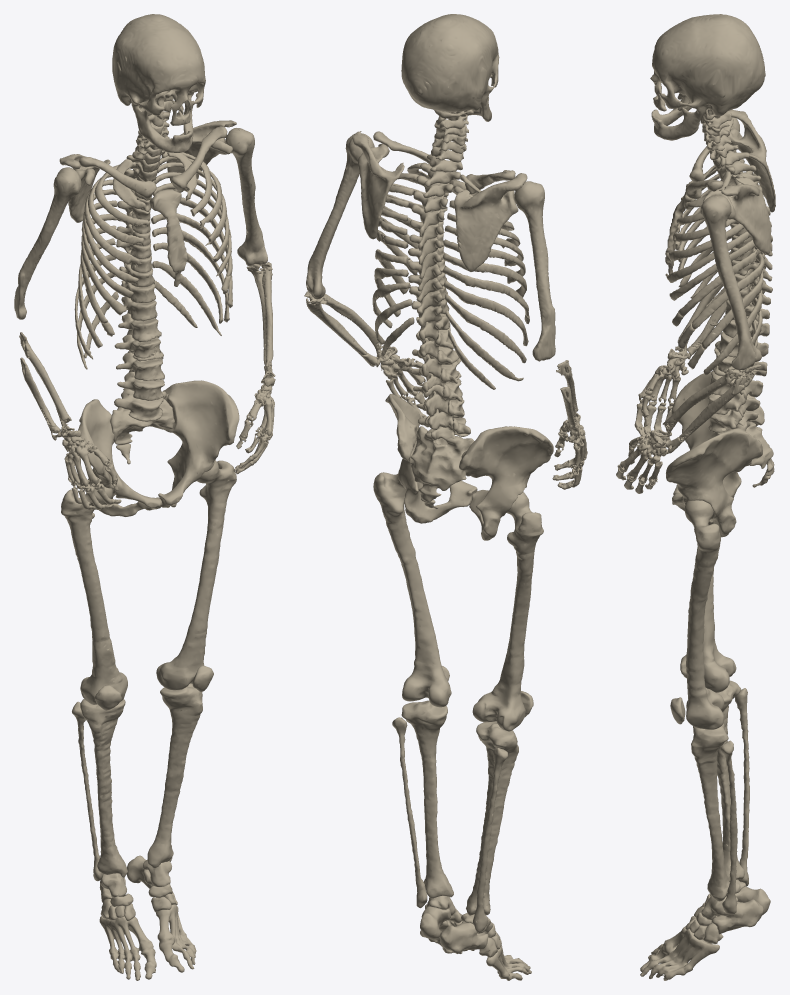
The model's file is vhf_denver_ct_adult_female.skeletal.LOD2.glb.
3 renders of one model, left to right at view 1: azimuth 30°, elevation 25°; view 2: azimuth 150°, elevation 25°; view 3: azimuth 270°, elevation 25°, orthographic. The views are drawn at different scales.
Parts seen in each view (by area): view 1: VHF_DENVER_CT.ADULT.FEMALE.SKELETAL.SKULL_CRANIUM_AND_MANDIB, VHF_DENVER_CT.ADULT.FEMALE.SKELETAL.HIP_BONE_OS_COXAE.L, VHF_DENVER_CT.ADULT.FEMALE.SKELETAL.FEMUR.L, VHF_DENVER_CT.ADULT.FEMALE.SKELETAL.FEMUR.R, VHF_DENVER_CT.ADULT.FEMALE.SKELETAL.TIBIA.L, VHF_DENVER_CT.ADULT.FEMALE.SKELETAL.METATARSALS_AND_PHALANGE (×2), VHF_DENVER_CT.ADULT.FEMALE.SKELETAL.TIBIA.R, VHF_DENVER_CT.ADULT.FEMALE.SKELETAL.HIP_BONE_OS_COXAE.R, VHF_DENVER_CT.ADULT.FEMALE.SKELETAL.HAND_BONES.R, VHF_DENVER_CT.ADULT.FEMALE.SKELETAL.HUMERUS.L, VHF_DENVER_CT.ADULT.FEMALE.SKELETAL.HUMERUS.R, VHF_DENVER_CT.ADULT.FEMALE.SKELETAL.HAND_BONES.L (+25 smaller); view 2: VHF_DENVER_CT.ADULT.FEMALE.SKELETAL.SKULL_CRANIUM_AND_MANDIB, VHF_DENVER_CT.ADULT.FEMALE.SKELETAL.HIP_BONE_OS_COXAE.R, VHF_DENVER_CT.ADULT.FEMALE.SKELETAL.FEMUR.L, VHF_DENVER_CT.ADULT.FEMALE.SKELETAL.FEMUR.R, VHF_DENVER_CT.ADULT.FEMALE.SKELETAL.SCAPULA.R, VHF_DENVER_CT.ADULT.FEMALE.SKELETAL.TIBIA.L, VHF_DENVER_CT.ADULT.FEMALE.SKELETAL.HIP_BONE_OS_COXAE.L, VHF_DENVER_CT.ADULT.FEMALE.SKELETAL.TIBIA.R, VHF_DENVER_CT.ADULT.FEMALE.SKELETAL.HUMERUS.R, VHF_DENVER_CT.ADULT.FEMALE.SKELETAL.SACRUM, VHF_DENVER_CT.ADULT.FEMALE.SKELETAL.SCAPULA.L, VHF_DENVER_CT.ADULT.FEMALE.SKELETAL.HUMERUS.L (+18 smaller); view 3: VHF_DENVER_CT.ADULT.FEMALE.SKELETAL.SKULL_CRANIUM_AND_MANDIB, VHF_DENVER_CT.ADULT.FEMALE.SKELETAL.FEMUR.L, VHF_DENVER_CT.ADULT.FEMALE.SKELETAL.HIP_BONE_OS_COXAE.L, VHF_DENVER_CT.ADULT.FEMALE.SKELETAL.HUMERUS.L, VHF_DENVER_CT.ADULT.FEMALE.SKELETAL.TIBIA.L, VHF_DENVER_CT.ADULT.FEMALE.SKELETAL.HAND_BONES.R, VHF_DENVER_CT.ADULT.FEMALE.SKELETAL.SCAPULA.L, VHF_DENVER_CT.ADULT.FEMALE.SKELETAL.METATARSALS_AND_PHALANGE, VHF_DENVER_CT.ADULT.FEMALE.SKELETAL.HAND_BONES.L, VHF_DENVER_CT.ADULT.FEMALE.SKELETAL.HIP_BONE_OS_COXAE.R, VHF_DENVER_CT.ADULT.FEMALE.SKELETAL.FEMUR.R, VHF_DENVER_CT.ADULT.FEMALE.SKELETAL.SCAPULA.R (+25 smaller).
Boxes of the visible parts, x1,y1,x2,y2 form: VHF_DENVER_CT.ADULT.FEMALE.SKELETAL.SKULL_CRANIUM_AND_MANDIB: (112, 14, 205, 152); VHF_DENVER_CT.ADULT.FEMALE.SKELETAL.HIP_BONE_OS_COXAE.L: (158, 380, 239, 507); VHF_DENVER_CT.ADULT.FEMALE.SKELETAL.FEMUR.L: (156, 460, 236, 690); VHF_DENVER_CT.ADULT.FEMALE.SKELETAL.FEMUR.R: (61, 484, 127, 704); VHF_DENVER_CT.ADULT.FEMALE.SKELETAL.TIBIA.L: (147, 683, 202, 868); VHF_DENVER_CT.ADULT.FEMALE.SKELETAL.METATARSALS_AND_PHALANGE (×2): (99, 904, 196, 980); VHF_DENVER_CT.ADULT.FEMALE.SKELETAL.TIBIA.R: (80, 699, 127, 877); VHF_DENVER_CT.ADULT.FEMALE.SKELETAL.HIP_BONE_OS_COXAE.R: (78, 399, 162, 516); VHF_DENVER_CT.ADULT.FEMALE.SKELETAL.HAND_BONES.R: (48, 425, 121, 510); VHF_DENVER_CT.ADULT.FEMALE.SKELETAL.HUMERUS.L: (225, 128, 267, 266); VHF_DENVER_CT.ADULT.FEMALE.SKELETAL.HUMERUS.R: (14, 167, 81, 319); VHF_DENVER_CT.ADULT.FEMALE.SKELETAL.HAND_BONES.L: (233, 365, 275, 474); VHF_DENVER_CT.ADULT.FEMALE.SKELETAL.SKULL_CRANIUM_AND_MANDIB: (401, 14, 499, 121); VHF_DENVER_CT.ADULT.FEMALE.SKELETAL.HIP_BONE_OS_COXAE.R: (459, 426, 553, 540); VHF_DENVER_CT.ADULT.FEMALE.SKELETAL.FEMUR.L: (373, 472, 451, 707); VHF_DENVER_CT.ADULT.FEMALE.SKELETAL.FEMUR.R: (472, 492, 543, 731); VHF_DENVER_CT.ADULT.FEMALE.SKELETAL.SCAPULA.R: (454, 173, 527, 271); VHF_DENVER_CT.ADULT.FEMALE.SKELETAL.TIBIA.L: (401, 700, 453, 898); VHF_DENVER_CT.ADULT.FEMALE.SKELETAL.HIP_BONE_OS_COXAE.L: (385, 394, 477, 523); VHF_DENVER_CT.ADULT.FEMALE.SKELETAL.TIBIA.R: (466, 721, 518, 915); VHF_DENVER_CT.ADULT.FEMALE.SKELETAL.HUMERUS.R: (514, 181, 555, 361); VHF_DENVER_CT.ADULT.FEMALE.SKELETAL.SACRUM: (410, 426, 474, 502); VHF_DENVER_CT.ADULT.FEMALE.SKELETAL.SCAPULA.L: (352, 131, 404, 239); VHF_DENVER_CT.ADULT.FEMALE.SKELETAL.HUMERUS.L: (306, 133, 374, 299); VHF_DENVER_CT.ADULT.FEMALE.SKELETAL.SKULL_CRANIUM_AND_MANDIB: (650, 14, 765, 140); VHF_DENVER_CT.ADULT.FEMALE.SKELETAL.FEMUR.L: (684, 500, 724, 729); VHF_DENVER_CT.ADULT.FEMALE.SKELETAL.HIP_BONE_OS_COXAE.L: (666, 428, 762, 537); VHF_DENVER_CT.ADULT.FEMALE.SKELETAL.HUMERUS.L: (700, 195, 761, 370); VHF_DENVER_CT.ADULT.FEMALE.SKELETAL.TIBIA.L: (691, 723, 735, 901); VHF_DENVER_CT.ADULT.FEMALE.SKELETAL.HAND_BONES.R: (634, 344, 698, 436); VHF_DENVER_CT.ADULT.FEMALE.SKELETAL.SCAPULA.L: (702, 177, 771, 254); VHF_DENVER_CT.ADULT.FEMALE.SKELETAL.METATARSALS_AND_PHALANGE: (640, 926, 719, 980); VHF_DENVER_CT.ADULT.FEMALE.SKELETAL.HAND_BONES.L: (616, 430, 683, 493); VHF_DENVER_CT.ADULT.FEMALE.SKELETAL.HIP_BONE_OS_COXAE.R: (671, 371, 764, 497); VHF_DENVER_CT.ADULT.FEMALE.SKELETAL.FEMUR.R: (703, 519, 736, 692); VHF_DENVER_CT.ADULT.FEMALE.SKELETAL.SCAPULA.R: (726, 109, 775, 212).
Bounding box in the file's own units: 0.4783 × 1.71 × 0.2583.
